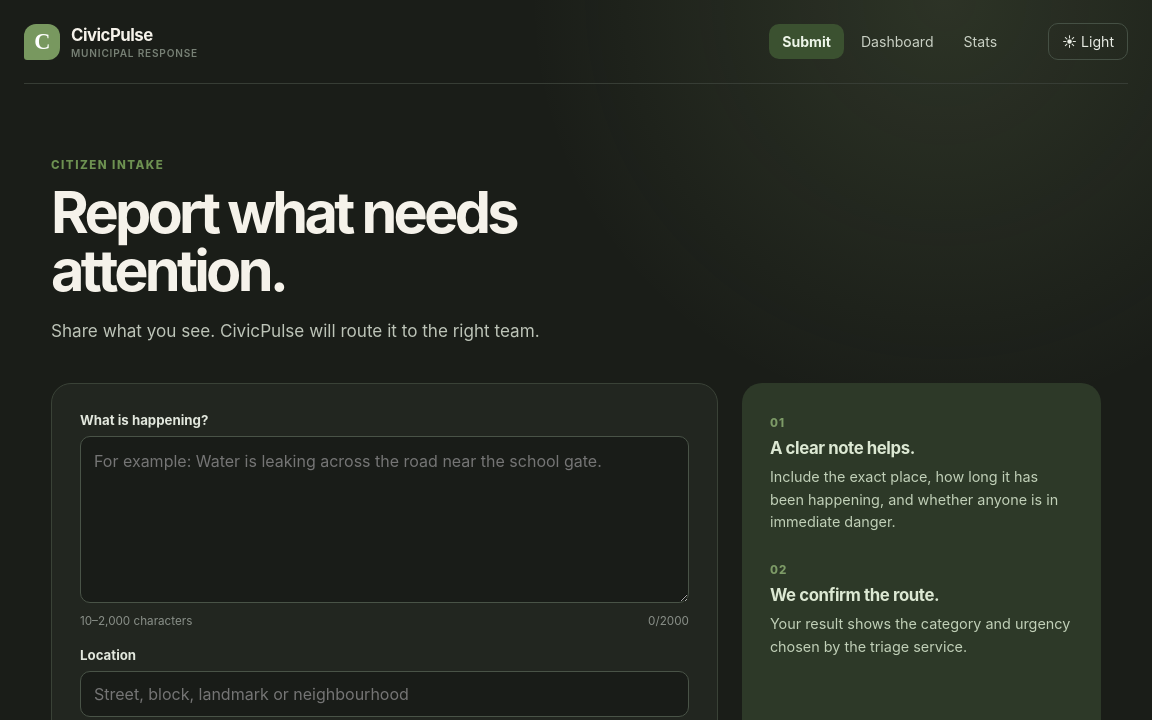
application accessibility › updates the current view announcement when navigation changes
Click the button "Dashboard" at (897, 42), box [848,24,946,59]
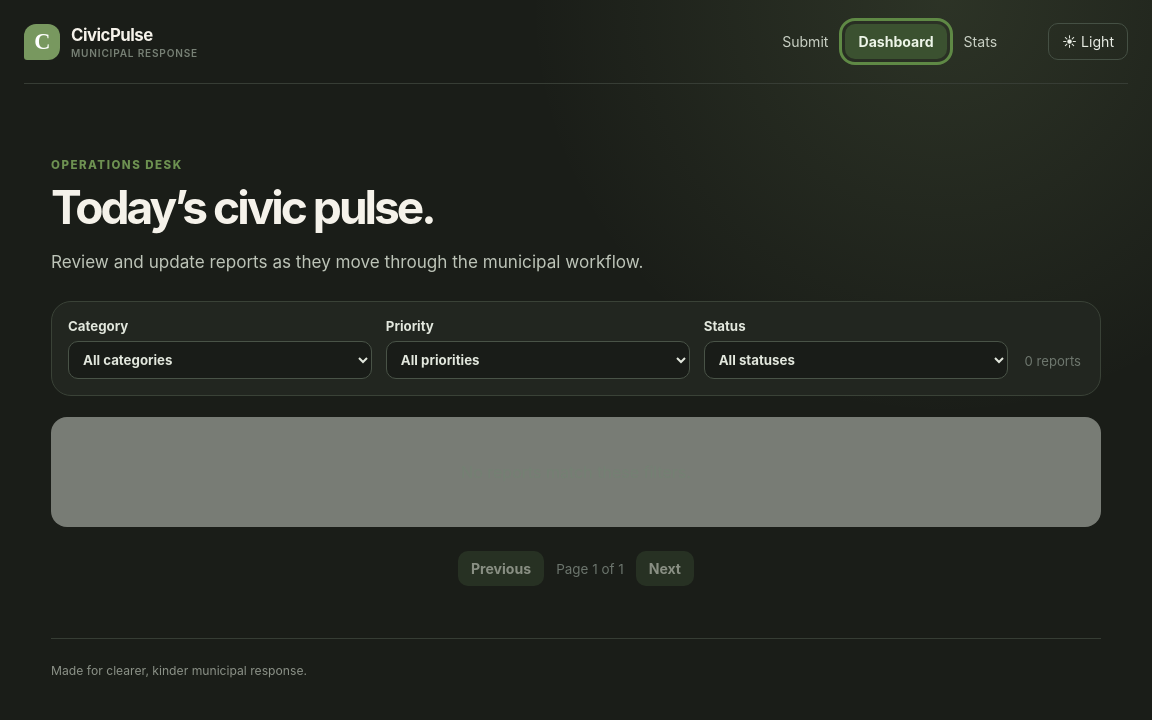
Check: the text "No reports match these filters." is shown, box [51,417,1101,527]
